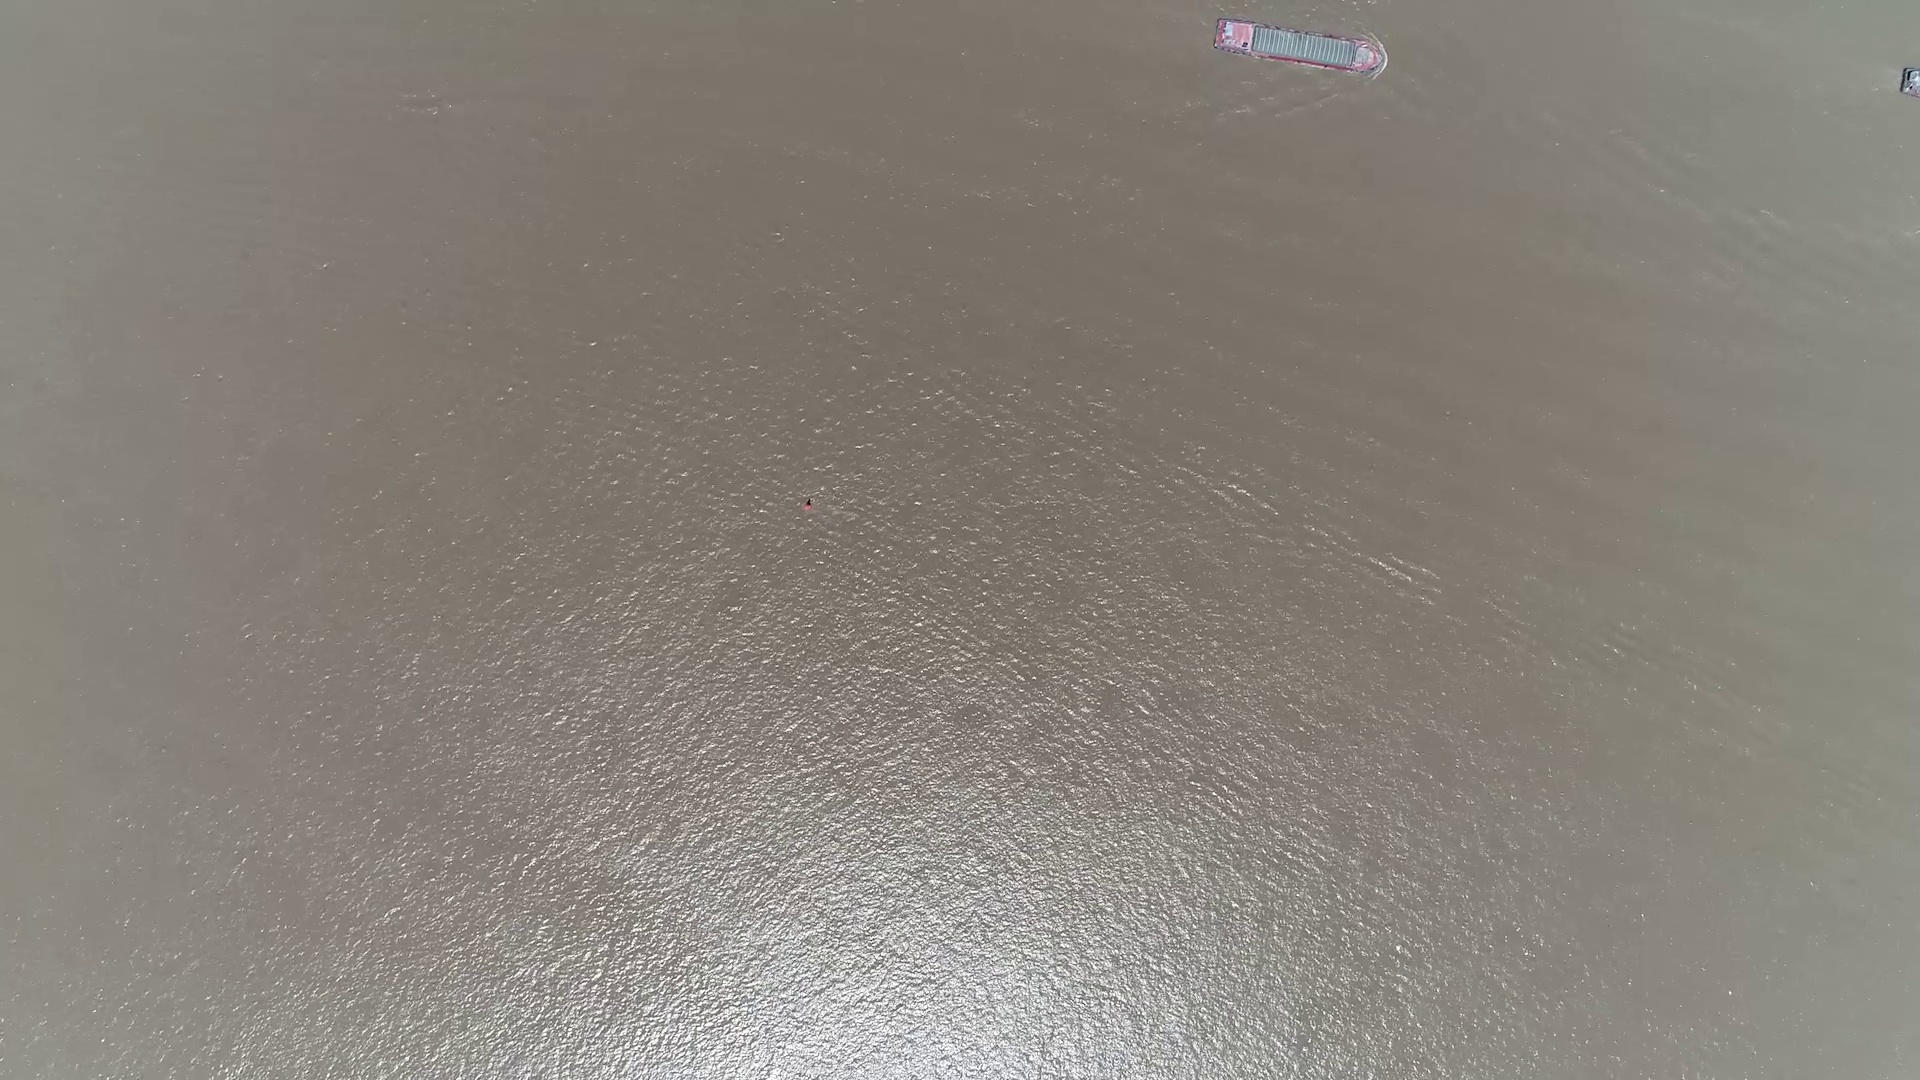ship: (1213, 18, 1383, 75)
